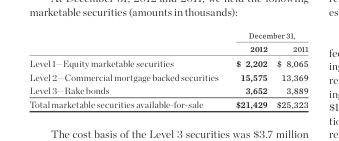table: (28, 28, 307, 109)
table column: (28, 28, 226, 109), (226, 28, 272, 109), (272, 28, 307, 109)
table column header: (28, 28, 307, 54)
table row: (28, 54, 307, 69), (28, 82, 307, 96), (28, 28, 307, 41), (28, 41, 307, 54), (28, 69, 307, 82), (28, 96, 307, 109)
table spanning cell: (226, 28, 307, 41)
